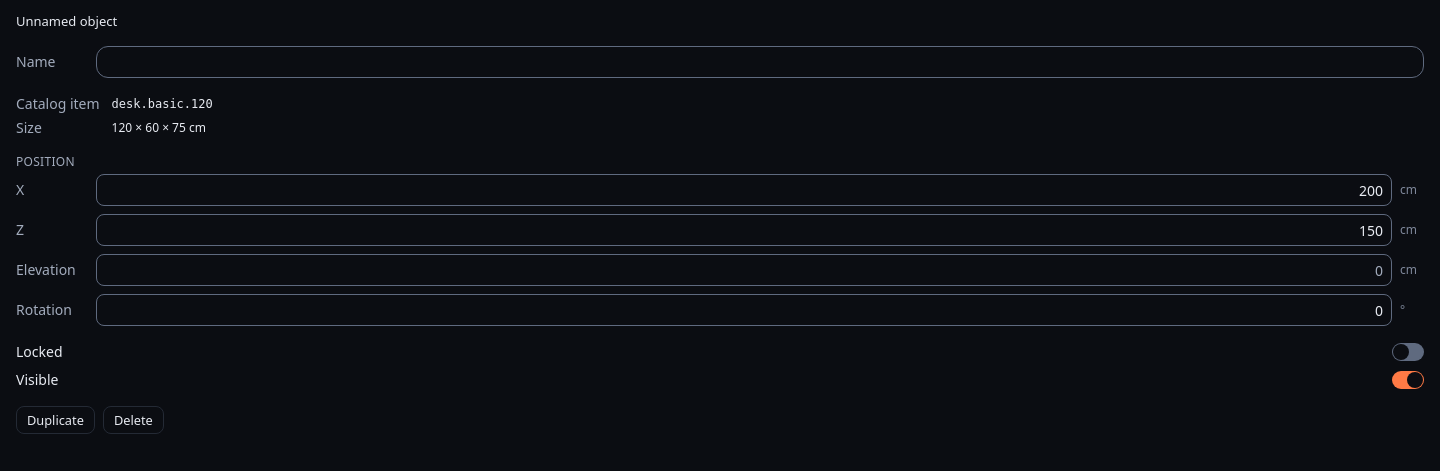
it: ObjectProperties: editing › refuses a position outside the room, with an accessible message, and changes nothing
Replace the text in the number field labelled "X" with "900" at [744, 190], box top-left (96, 174), bottom-right (1392, 206)
Then press Enter
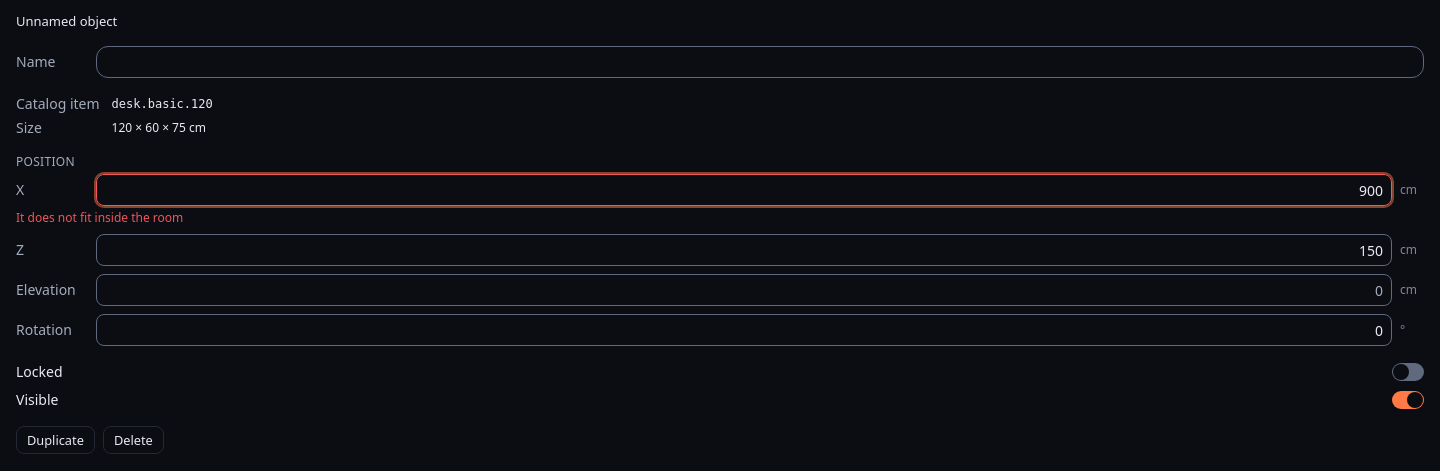
Expected: the message reads "It does not fit inside the room", top-left (16, 209), bottom-right (183, 226)
